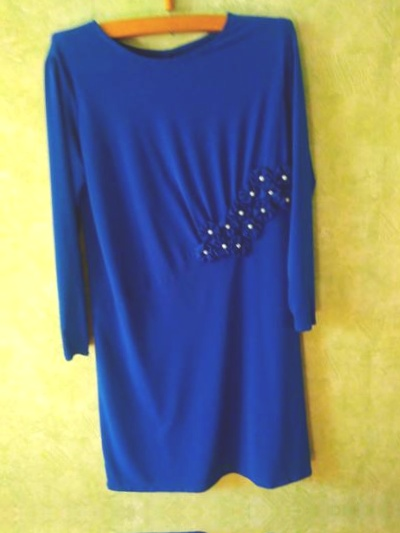Dress: (33, 6, 351, 502), (39, 523, 357, 533)
